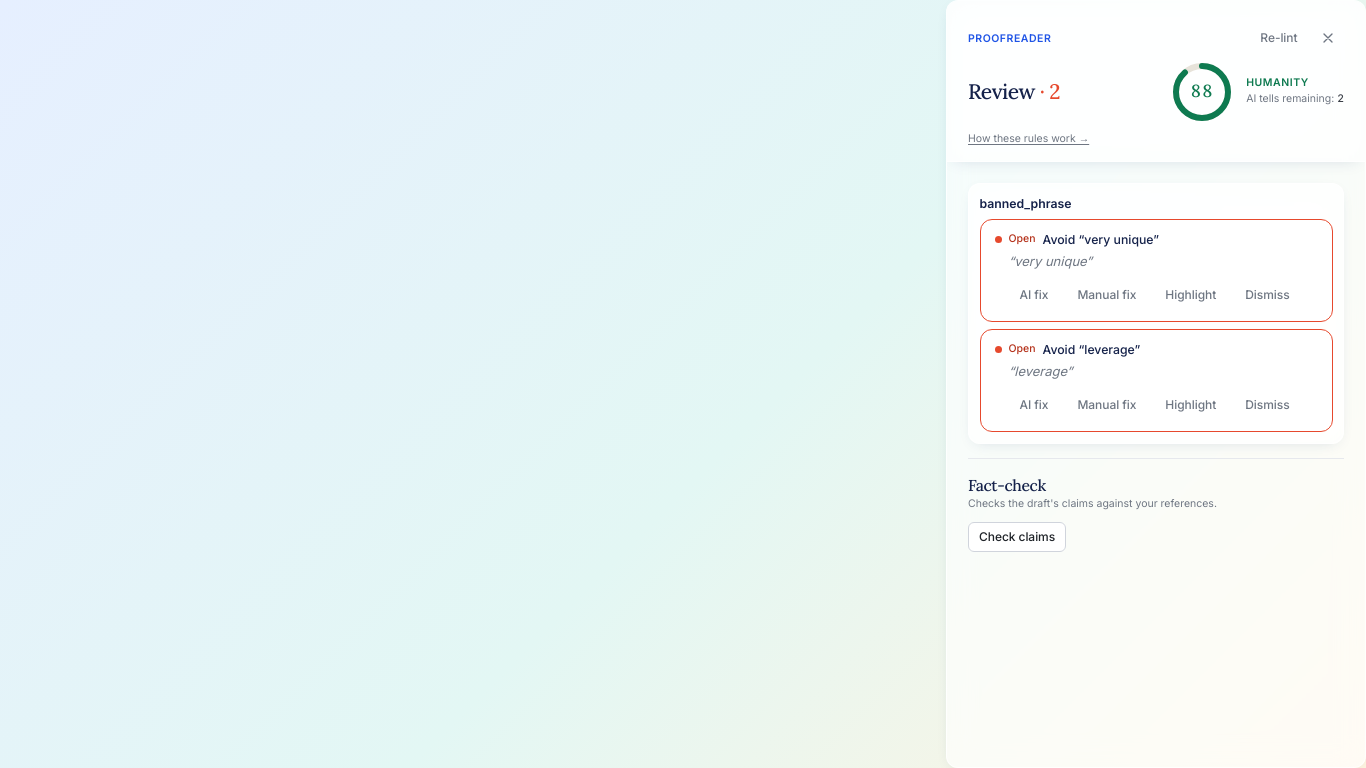
it: LintPanel on the shared rail › does NOT improve the Humanity Score when a finding is merely dismissed
The width and height of the screenshot is (1366, 768).
Check: the text "Avoid “very unique”" is shown, box [1042,231,1159,248]
Check: the text "88" is shown, box [1190,79,1213,102]
Click the button "Dismiss" below "Avoid “very unique”": (1267, 295) [1234,280,1300,311]
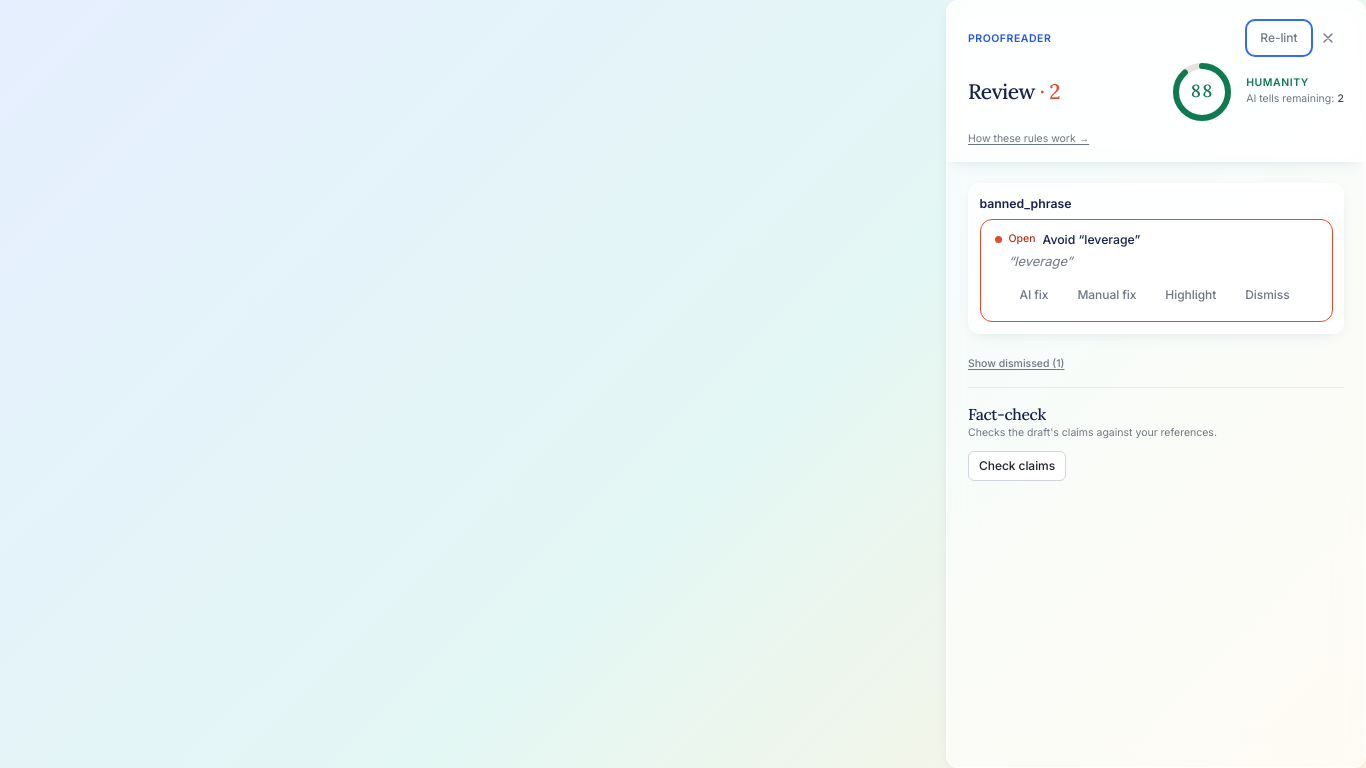
Check: the text "88" is shown, box [1190,79,1213,102]
Check: the text "Avoid “very unique”" is gone
